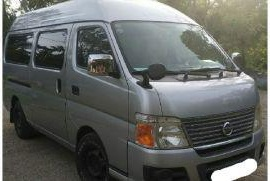van: (2, 3, 259, 174)
